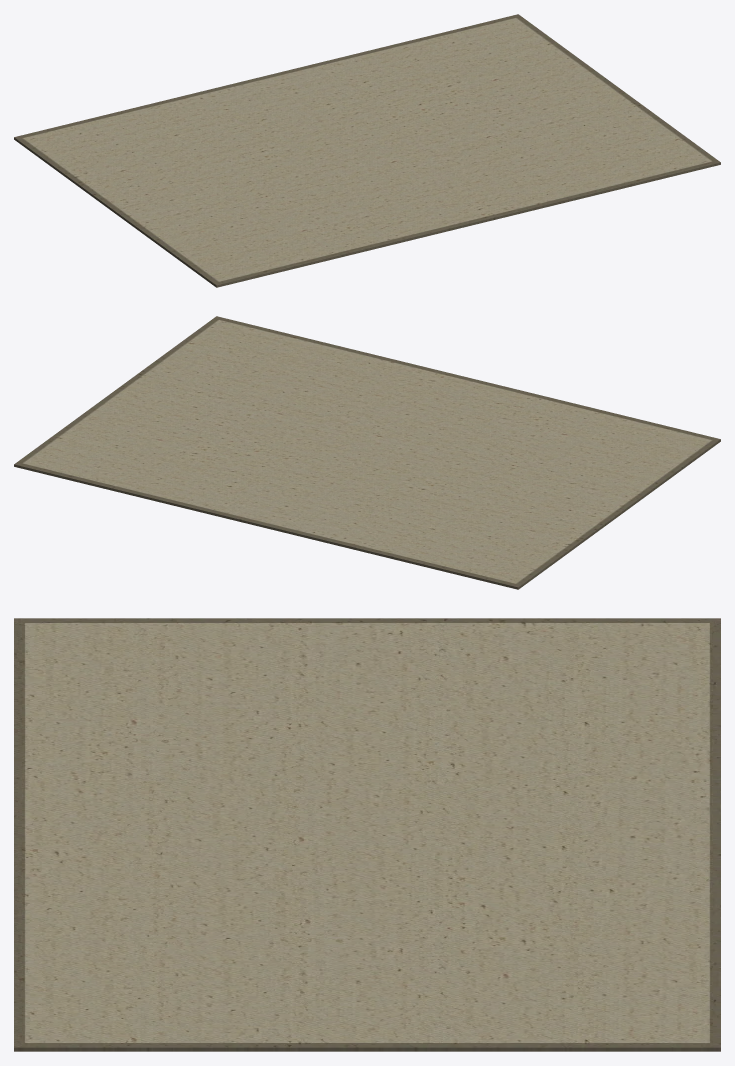
Rendered from alfombra_lana_beige_160x230.glb.
3 renders of one model, top to bottom at view 1: azimuth 30°, elevation 25°; view 2: azimuth 150°, elevation 25°; view 3: azimuth 270°, elevation 25°, orthographic. The views are drawn at different scales.
Visible parts, largest first — view 1: alfombra_lana_beige_160x230; view 2: alfombra_lana_beige_160x230; view 3: alfombra_lana_beige_160x230.
Boxes of the visible parts, box(x1,y1,x2,y2) form: alfombra_lana_beige_160x230: box(14, 14, 720, 287); alfombra_lana_beige_160x230: box(14, 316, 720, 589); alfombra_lana_beige_160x230: box(14, 618, 720, 1051).
Bounding box in the file's own units: 2.3 × 0.01 × 1.6.
Materials: 1 (1 with a texture image).
